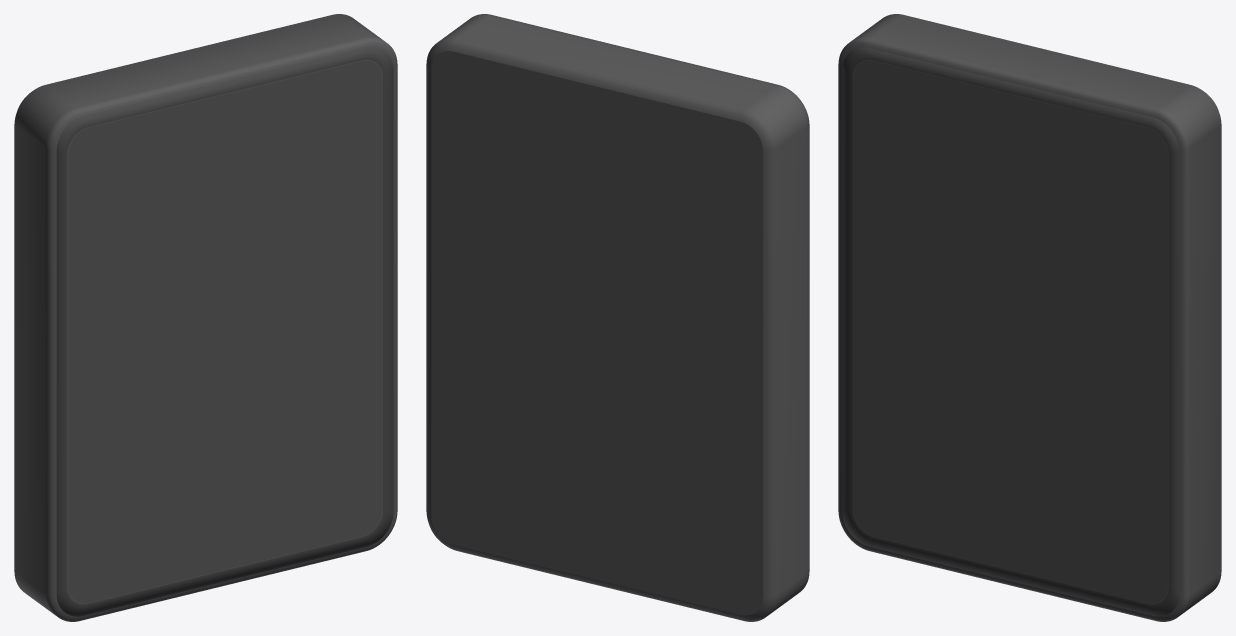
The model's file is word-tile.full.glb.
3 views of the same model, side by side, from view 1: azimuth 30°, elevation 25°; view 2: azimuth 150°, elevation 25°; view 3: azimuth 330°, elevation 25° (orthographic).
Parts seen in each view (by area): view 1: tile_face, tile_body, tile_rim; view 2: tile_body; view 3: tile_face, tile_body, tile_rim.
Part boxes in pixels (<box>): tile_face: <box>68,61,382,603</box>; tile_body: <box>14,14,397,621</box>; tile_rim: <box>56,47,393,616</box>; tile_body: <box>426,14,809,621</box>; tile_face: <box>853,61,1167,603</box>; tile_body: <box>838,14,1221,621</box>; tile_rim: <box>842,47,1179,616</box>.
Size of the model in its own units: 1 by 1.4 by 0.2.
3 materials, 3 textured.
